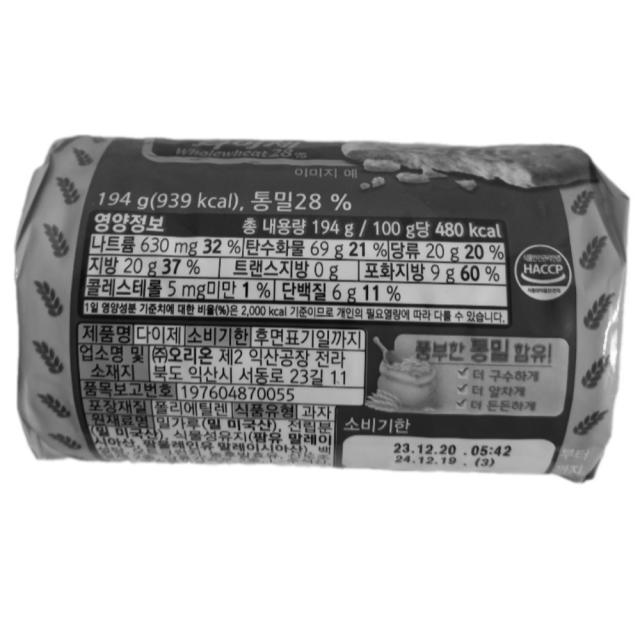Nutrition Label: (72, 201, 521, 338)
